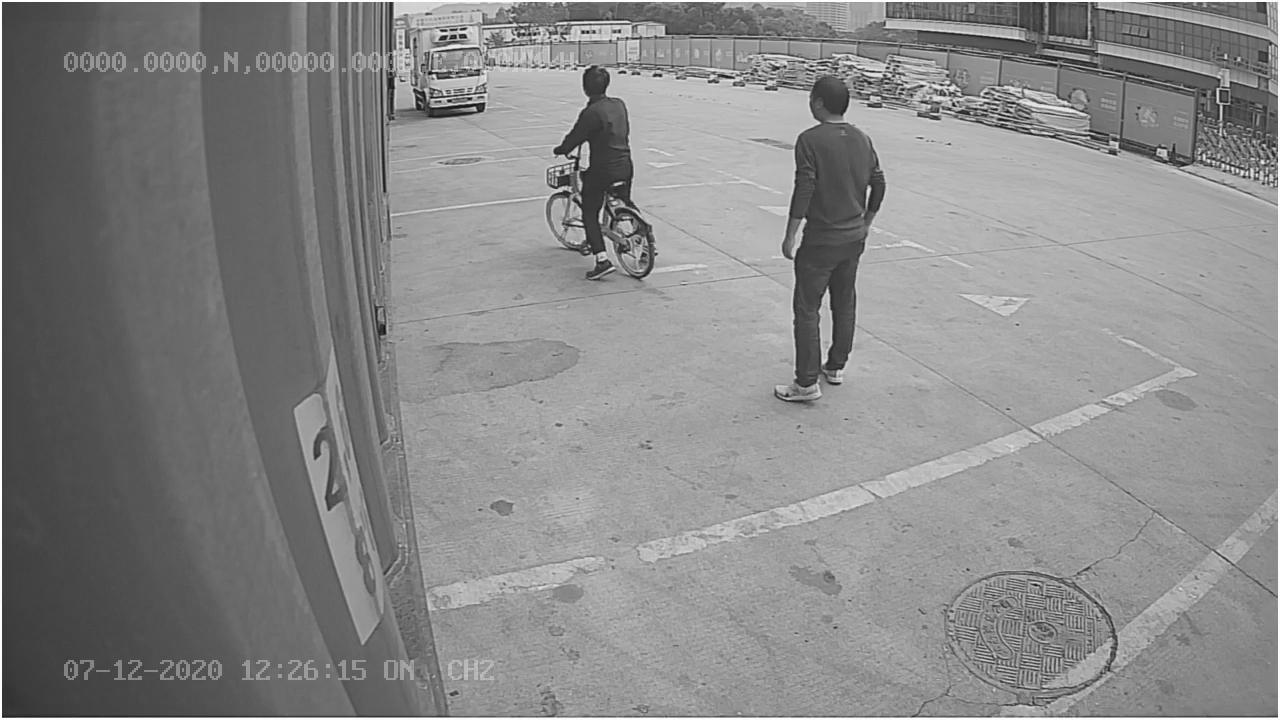person: (766, 71, 892, 412)
